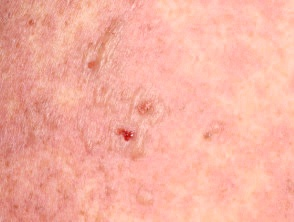SJS-TEN: (52, 96, 172, 222)
